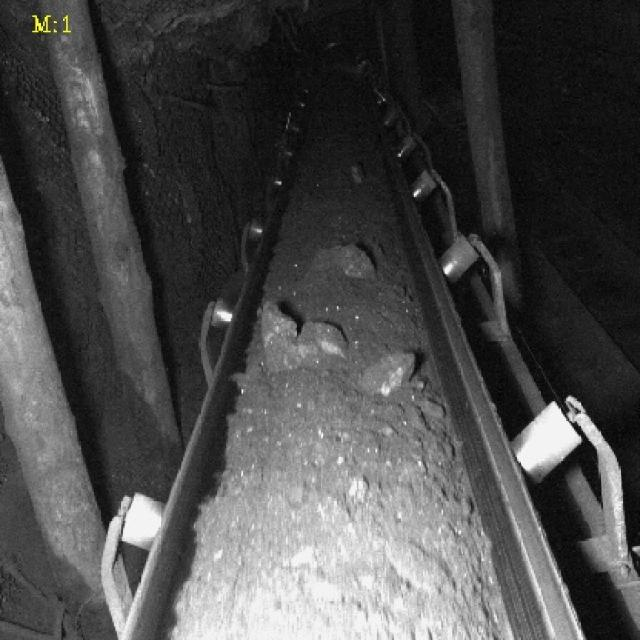large_sized_coal: (263, 303, 299, 369), (358, 352, 417, 392), (309, 246, 374, 282), (300, 321, 346, 357)
